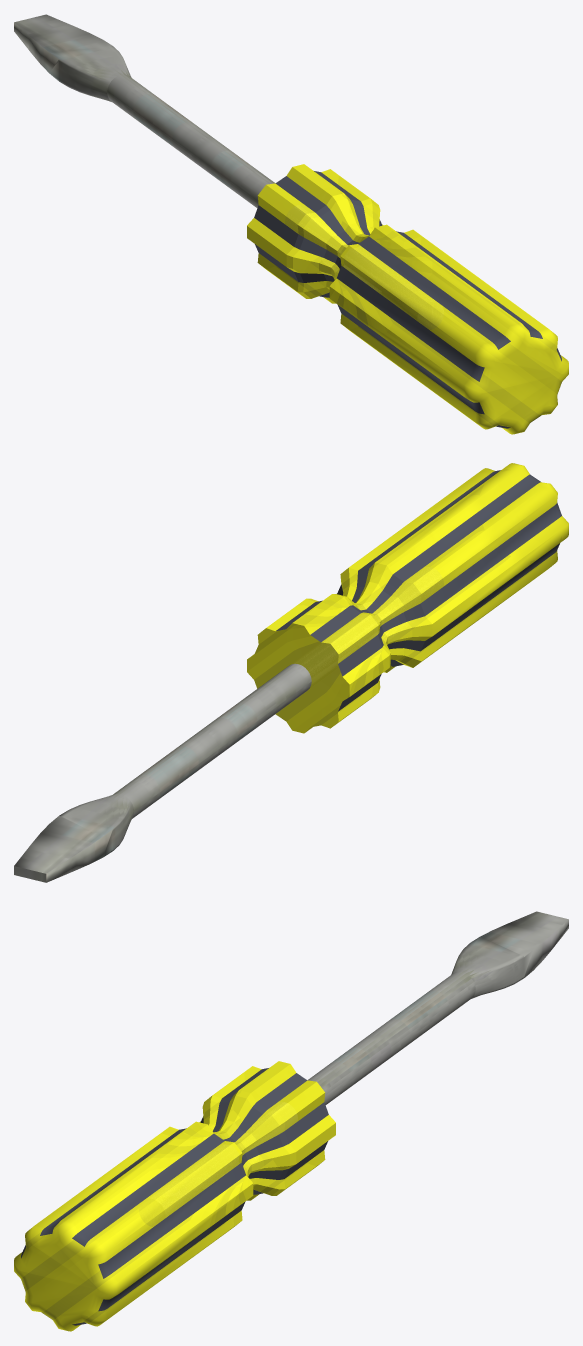
The model's file is Driver.fbx.
3 views of the same model, one above another, from view 1: azimuth 30°, elevation 25°; view 2: azimuth 150°, elevation 25°; view 3: azimuth 330°, elevation 25° (orthographic).
Parts seen in each view (by area): view 1: Difference, Group2; view 2: Difference, Group2; view 3: Difference, Group2.
Part boxes in pixels (left/top/right/bottom): Difference: left=247, top=164, right=568, bottom=434; Group2: left=14, top=14, right=274, bottom=208; Difference: left=247, top=463, right=568, bottom=733; Group2: left=14, top=663, right=311, bottom=882; Difference: left=14, top=1061, right=335, bottom=1331; Group2: left=308, top=911, right=568, bottom=1105.
Bounding box in the file's own units: 11.64 × 11.64 × 96.57.
